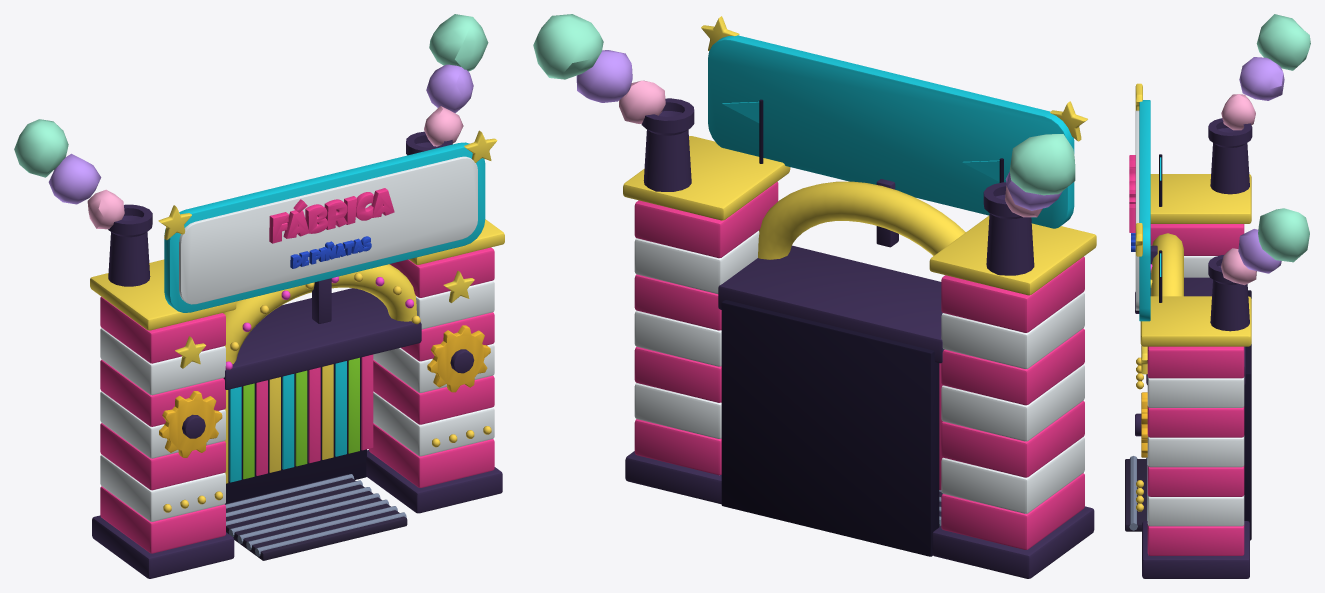
Rendered from lobby_fabrica_gate.obj.
3 views of the same model, side by side, from view 1: azimuth 30°, elevation 25°; view 2: azimuth 150°, elevation 25°; view 3: azimuth 270°, elevation 25° (orthographic). The views are drawn at different scales.
Visible parts, largest first — view 1: lobby_fabrica_gate, lobby_fabrica_gate_Sign, lobby_fabrica_gate_Neon; view 2: lobby_fabrica_gate, lobby_fabrica_gate_Sign; view 3: lobby_fabrica_gate, lobby_fabrica_gate_Sign, lobby_fabrica_gate_Neon.
Part boxes in pixels (box(x1,y1,x2,y2)): lobby_fabrica_gate: box(14, 14, 504, 578); lobby_fabrica_gate_Sign: box(158, 130, 497, 312); lobby_fabrica_gate_Neon: box(163, 273, 491, 512); lobby_fabrica_gate: box(533, 14, 1096, 578); lobby_fabrica_gate_Sign: box(701, 16, 1087, 228); lobby_fabrica_gate: box(1125, 14, 1310, 578); lobby_fabrica_gate_Sign: box(1129, 83, 1150, 321); lobby_fabrica_gate_Neon: box(1136, 245, 1152, 511).
Size of the model in its own units: 35.4 by 29.96 by 13.08.
Materials: 2 (2 with a texture image).
